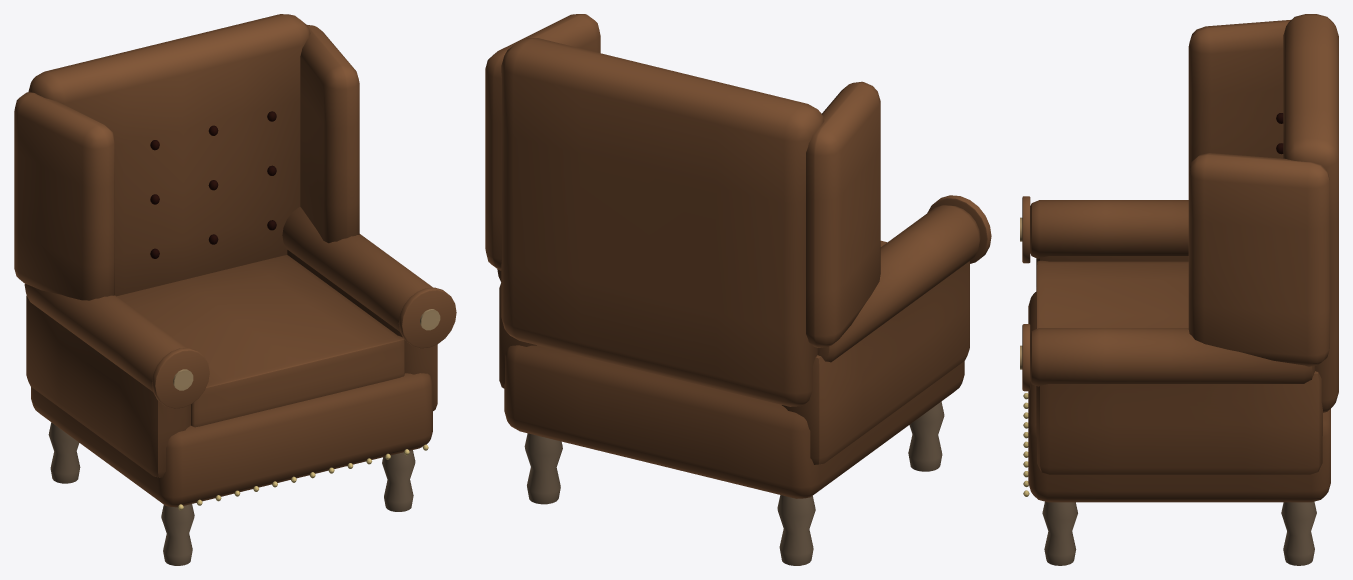
Rendered from obj_kit_armchair.glb.
3 views of the same model, side by side, from view 1: azimuth 30°, elevation 25°; view 2: azimuth 150°, elevation 25°; view 3: azimuth 270°, elevation 25° (orthographic). The views are drawn at different scales.
Visible parts, largest first — view 1: Cube.002, Cube.001, Cube, Cube.003, Cube.004, Cube.005, Cylinder.003, Cylinder, Cylinder.001, Cylinder.004, Cube.006, leg (+2 smaller); view 2: Cube.002, Cube, Cube.003, Cube.004, Cylinder, Cube.005, leg.001, leg.003, leg, Cylinder.001, Cube.006; view 3: Cube.005, Cube.006, Cylinder.003, Cube.003, Cube.002, Cube, Cube.001, Cylinder, leg.003, leg.002, Cube.004, Cylinder.001 (+1 smaller).
Part boxes in pixels (left/top/right/bottom): Cube.002: left=28, top=14, right=310, bottom=296; Cube.001: left=116, top=255, right=404, bottom=427; Cube: left=31, top=373, right=432, bottom=507; Cube.003: left=14, top=92, right=114, bottom=300; Cube.004: left=26, top=296, right=190, bottom=477; Cube.005: left=300, top=25, right=359, bottom=243; Cylinder.003: left=282, top=207, right=432, bottom=331; Cylinder: left=24, top=284, right=186, bottom=391; Cylinder.001: left=152, top=347, right=209, bottom=408; Cylinder.004: left=398, top=287, right=456, bottom=348; Cube.006: left=287, top=250, right=437, bottom=410; leg: left=161, top=504, right=194, bottom=565; Cube.002: left=501, top=38, right=824, bottom=406; Cube: left=504, top=345, right=964, bottom=498; Cube.003: left=806, top=81, right=880, bottom=347; Cube.004: left=782, top=261, right=969, bottom=464; Cylinder: left=817, top=205, right=980, bottom=362; Cube.005: left=485, top=14, right=600, bottom=270; leg.001: left=777, top=495, right=815, bottom=565; leg.003: left=524, top=433, right=562, bottom=504; leg: left=908, top=401, right=944, bottom=471; Cylinder.001: left=927, top=195, right=991, bottom=263; Cube.006: left=499, top=283, right=536, bottom=388; Cube.005: left=1188, top=153, right=1329, bottom=366; Cube.006: left=1036, top=371, right=1322, bottom=474; Cylinder.003: left=1030, top=328, right=1314, bottom=386; Cube.003: left=1188, top=20, right=1290, bottom=170; Cube.002: left=1283, top=14, right=1338, bottom=412; Cube: left=1028, top=292, right=1330, bottom=502; Cube.001: left=1036, top=260, right=1188, bottom=328; Cylinder: left=1030, top=200, right=1188, bottom=258; leg.003: left=1281, top=501, right=1316, bottom=565; leg.002: left=1042, top=501, right=1077, bottom=565; Cube.004: left=1036, top=256, right=1188, bottom=286; Cylinder.001: left=1022, top=196, right=1030, bottom=263.
Bounding box in the file's own units: 0.9456 × 1.19 × 0.801.
